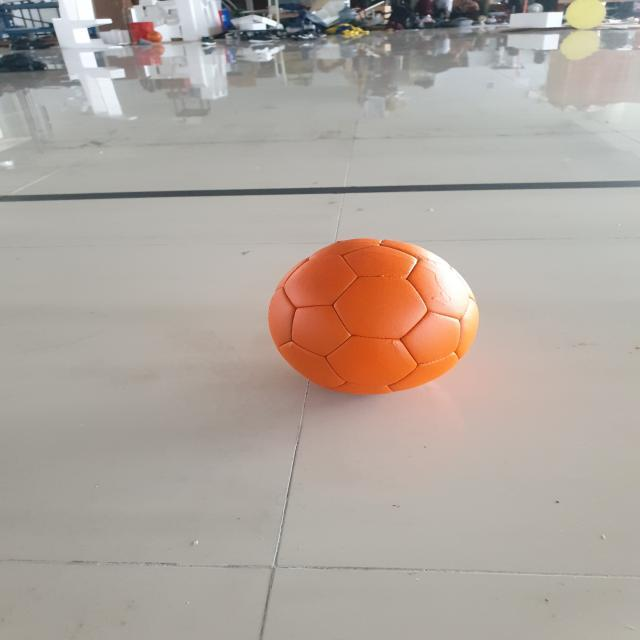bola: (262, 233, 480, 404)
